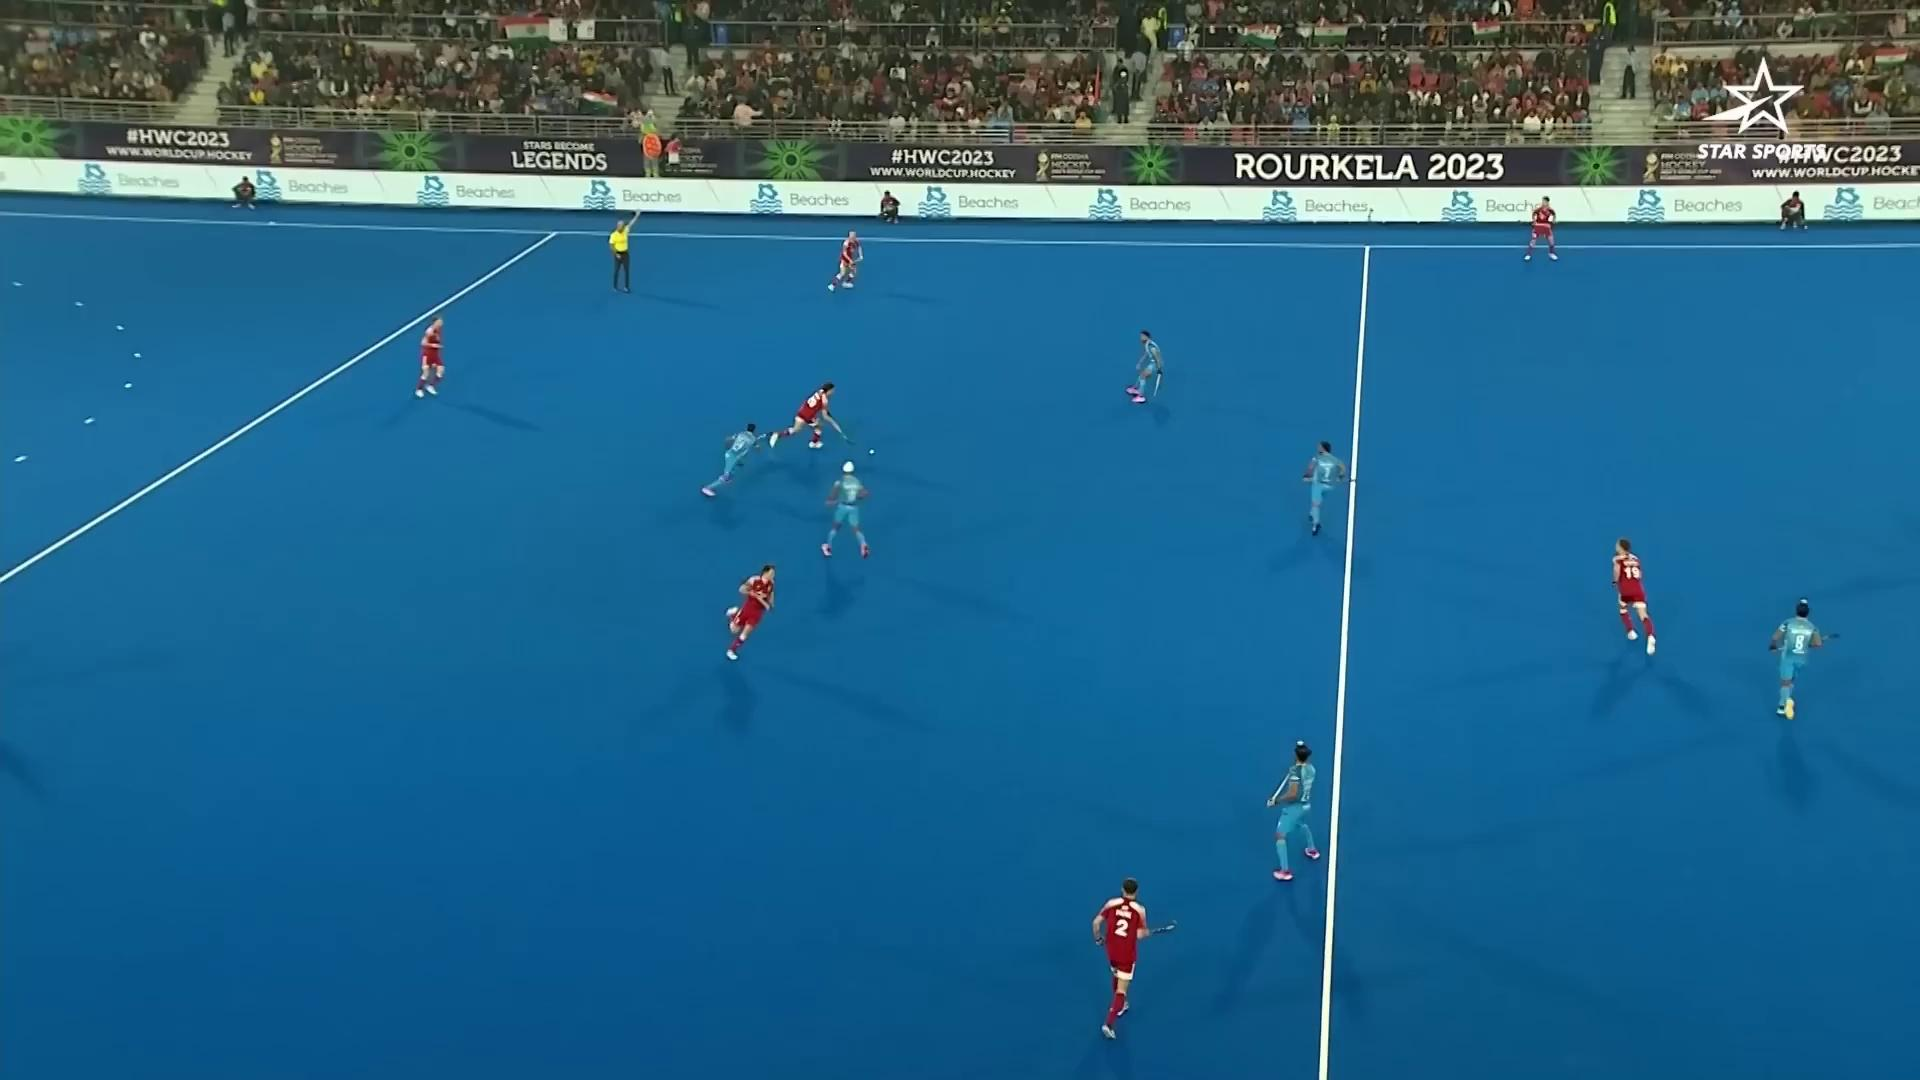ball: (866, 446, 878, 458)
